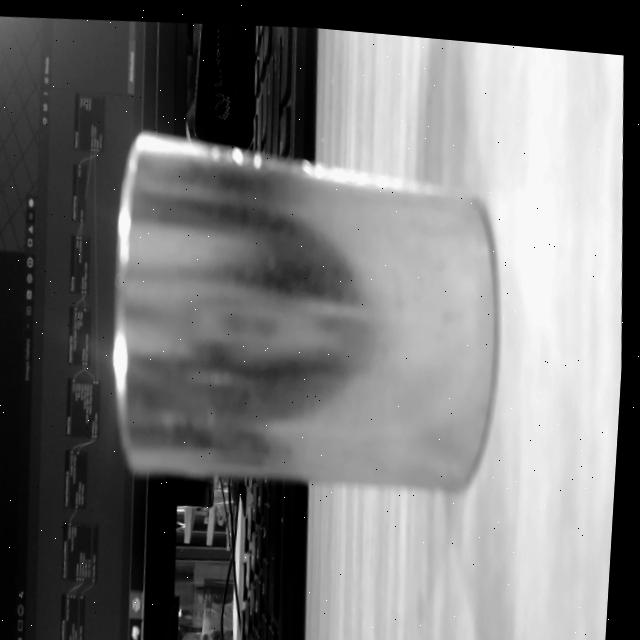Co_Nho: (103, 133, 507, 494)
